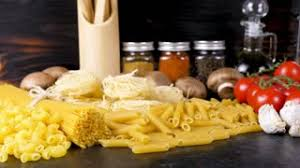Tomato: (248, 85, 280, 105), (281, 60, 300, 86)
